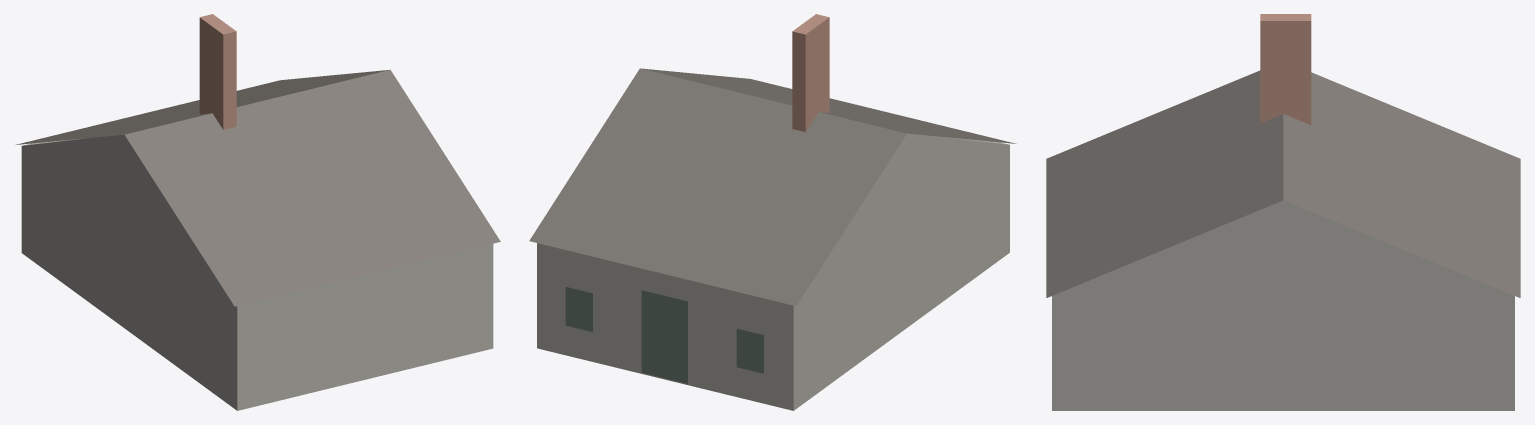
File: recon_1835_south_d5_034__recommended_1835.glb
The picture shows the model from 3 angles, left to right: view 1: azimuth 30°, elevation 25°; view 2: azimuth 150°, elevation 25°; view 3: azimuth 270°, elevation 25°; orthographic projection. The views are drawn at different scales.
Visible parts, largest first — view 1: recon_1835_south_d5_034__recommended_1835; view 2: recon_1835_south_d5_034__recommended_1835; view 3: recon_1835_south_d5_034__recommended_1835.
Part boxes in pixels (x1,y1,x2,y2): recon_1835_south_d5_034__recommended_1835: (16,14,500,410); recon_1835_south_d5_034__recommended_1835: (529,14,1016,410); recon_1835_south_d5_034__recommended_1835: (1046,14,1520,410).
Bounding box in the file's own units: 7.21 × 7.38 × 10.36.
